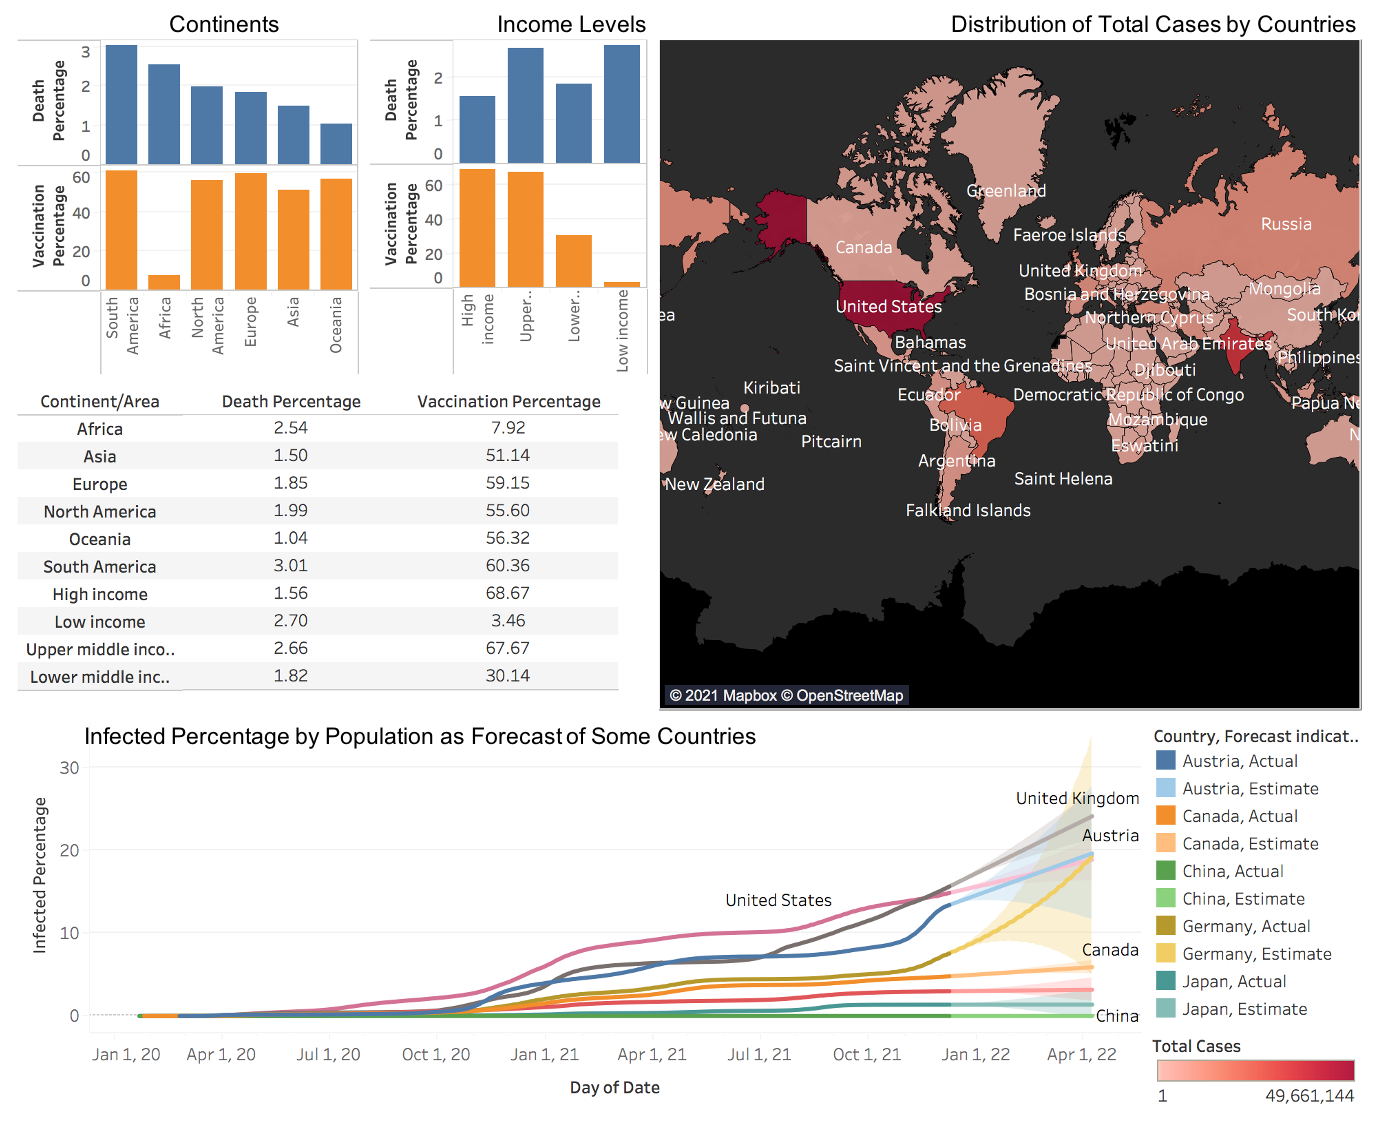

The page's visual inventory and layout, read from the dashboard file:
{"tool":"tableau","page":{"name":"Dashboard 1","canvas":[1000,800],"ordinal":0},"visuals":[{"type":"worksheet","box":[0,0,1000,800]},{"type":"worksheet","title":"Sheet 3","mark":"Automatic","rows":["DeathPercentage","VaccinationPercentage"],"cols":["Continent/Area"],"box":[8,8,256,252]},{"type":"worksheet","title":"Sheet 4","mark":"Automatic","rows":["DeathPercentage","VaccinationPercentage"],"cols":["Continent/Area"],"box":[264,8,210,252]},{"type":"worksheet","title":"Sheet 6","mark":"Automatic","box":[474,8,518,495]},{"type":"worksheet","title":"Sheet 2","mark":"Automatic","rows":["Continent/Area"],"box":[8,260,466,243]},{"type":"worksheet","param":"horz","box":[8,503,984,289]},{"type":"worksheet","box":[8,503,824,289]},{"type":"worksheet","title":"Sheet 5","mark":"Automatic","rows":["infectedPercentage"],"cols":["Date"],"box":[8,503,824,289]},{"type":"worksheet","param":"vert","box":[832,503,160,289]},{"type":"worksheet","title":"Sheet 5","mark":"Automatic","rows":["infectedPercentage"],"cols":["Date"],"param":"[federated.0kppchl0qtfzkl12kfh1b153jezs].[none:Country:nk]\n[federated.0kppchl0qt","box":[832,503,160,224]},{"type":"worksheet","title":"Sheet 6","mark":"Automatic","param":"[federated.02800cd0imdvzt1exrt2313yl0xg].[sum:total_cases:qk]","box":[832,727,160,65]}]}

Visuals, with their boxes in screenshot pixels (x1, y1, x2, y2), scaled from the page's 1000x800 canvas onto the 1379x1125 screenshot:
worksheet: (x1=0, y1=0, x2=1378, y2=1124)
"Sheet 3" worksheet: (x1=11, y1=11, x2=364, y2=366)
"Sheet 4" worksheet: (x1=364, y1=11, x2=654, y2=366)
"Sheet 6" worksheet: (x1=654, y1=11, x2=1368, y2=707)
"Sheet 2" worksheet: (x1=11, y1=366, x2=654, y2=707)
worksheet: (x1=11, y1=707, x2=1368, y2=1114)
worksheet: (x1=11, y1=707, x2=1147, y2=1114)
"Sheet 5" worksheet: (x1=11, y1=707, x2=1147, y2=1114)
worksheet: (x1=1147, y1=707, x2=1368, y2=1114)
"Sheet 5" worksheet: (x1=1147, y1=707, x2=1368, y2=1022)
"Sheet 6" worksheet: (x1=1147, y1=1022, x2=1368, y2=1114)
